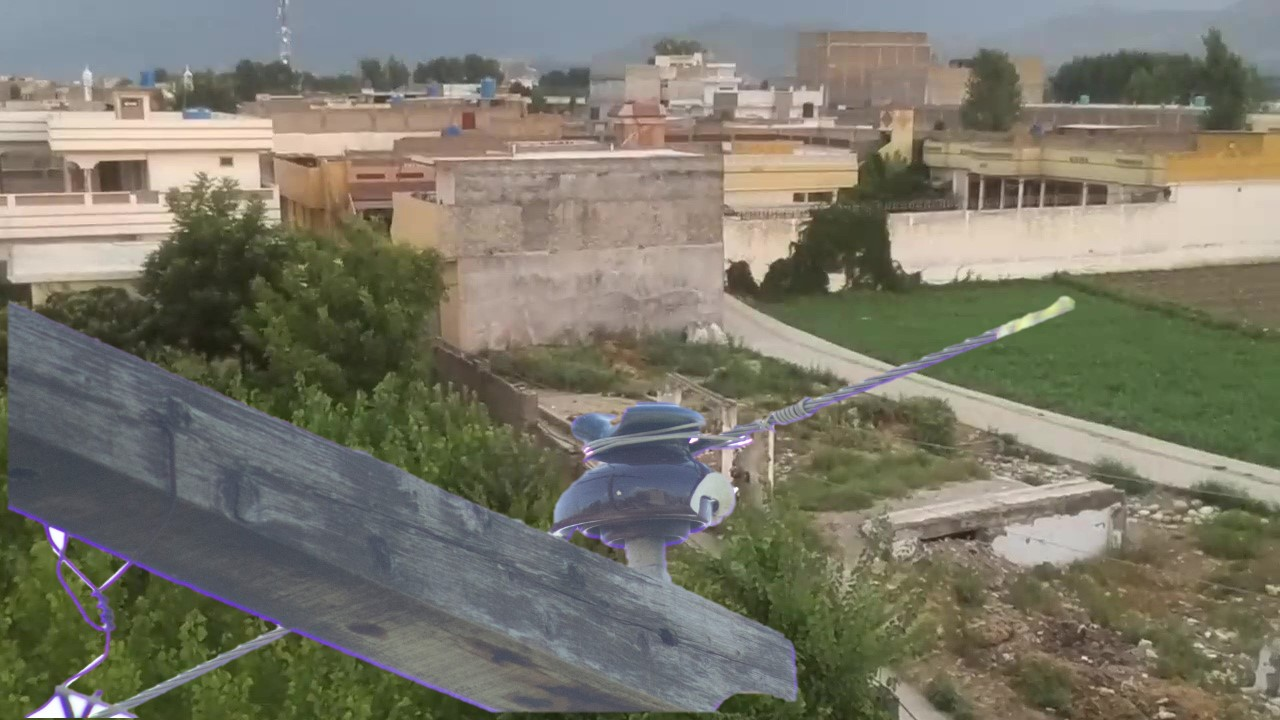defect_pin: (546, 392, 751, 559)
